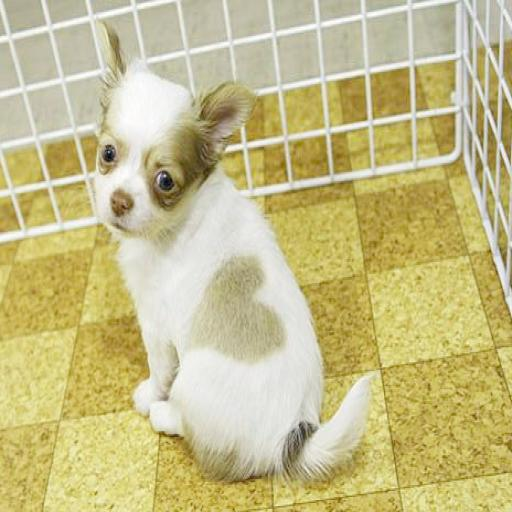dog_face: (81, 27, 248, 236)
